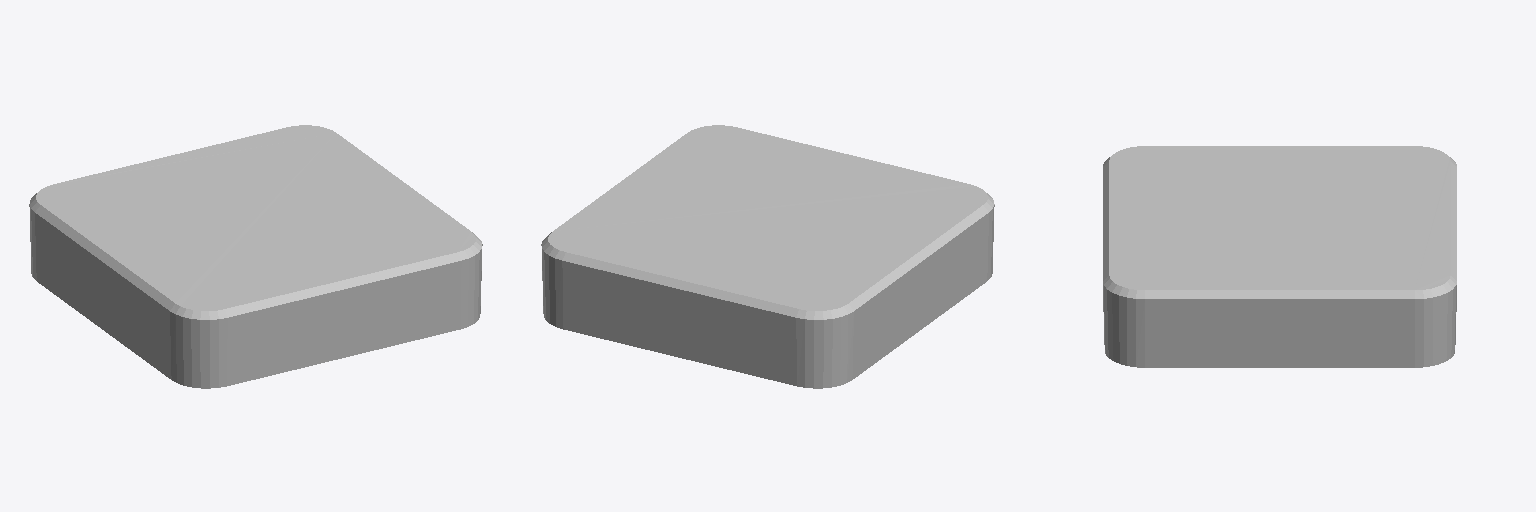
File: Tape.obj
3 views of the same model, side by side, from view 1: azimuth 30°, elevation 25°; view 2: azimuth 150°, elevation 25°; view 3: azimuth 270°, elevation 25° (orthographic).
Visible parts, largest first — view 1: Tape; view 2: Tape; view 3: Tape.
Part boxes in pixels (left/top/right/bottom): Tape: left=29, top=125, right=482, bottom=388; Tape: left=541, top=125, right=994, bottom=388; Tape: left=1103, top=146, right=1456, bottom=367.
Bounding box in the file's own units: 1.06 × 0.2484 × 1.06.